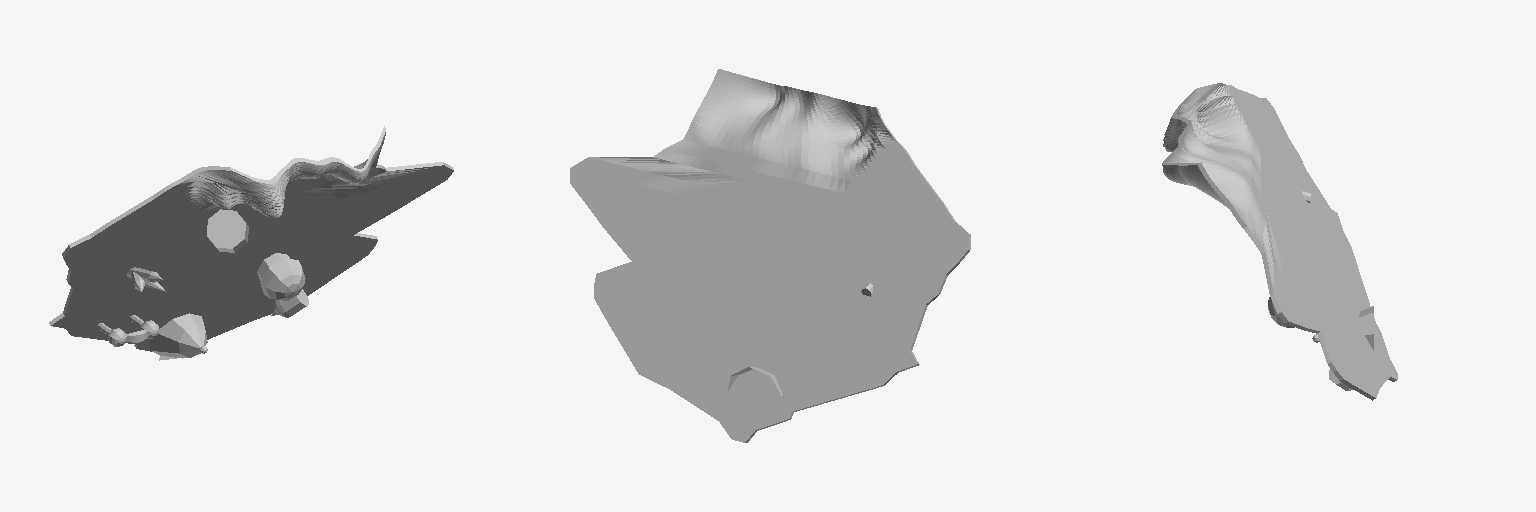
Rendered from plataforma2.obj.
3 renders of one model, left to right at view 1: azimuth 30°, elevation 25°; view 2: azimuth 150°, elevation 25°; view 3: azimuth 270°, elevation 25°, orthographic.
Parts seen in each view (by area): view 1: curve3; view 2: curve3; view 3: curve3.
Part boxes in pixels (bbox=[...]): curve3: bbox=[49, 126, 453, 360]; curve3: bbox=[570, 69, 970, 442]; curve3: bbox=[1162, 83, 1397, 400].
Size of the model in its own units: 8.88 by 5.89 by 4.58.